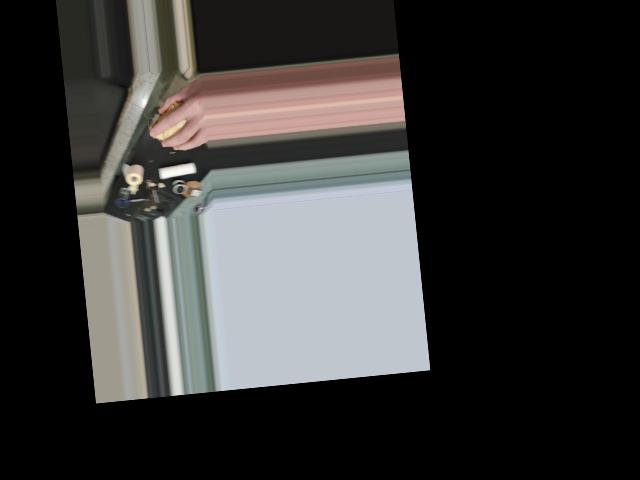onion: (148, 98, 196, 144)
